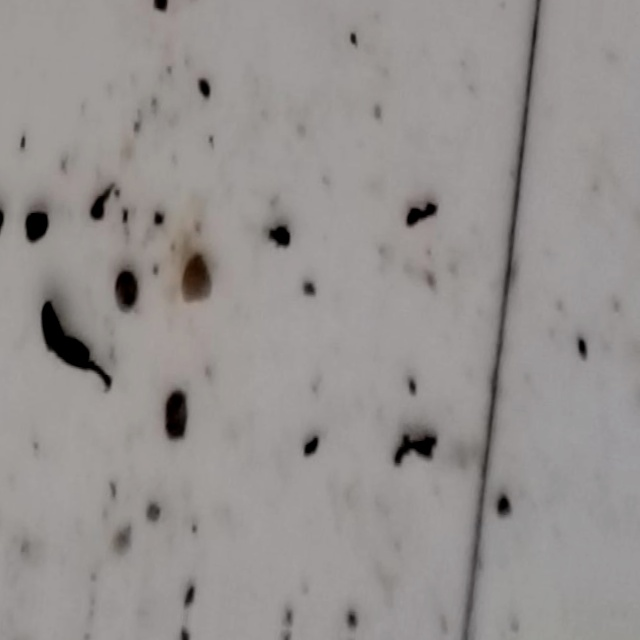varroa: (159, 389, 194, 446), (111, 261, 141, 316)
